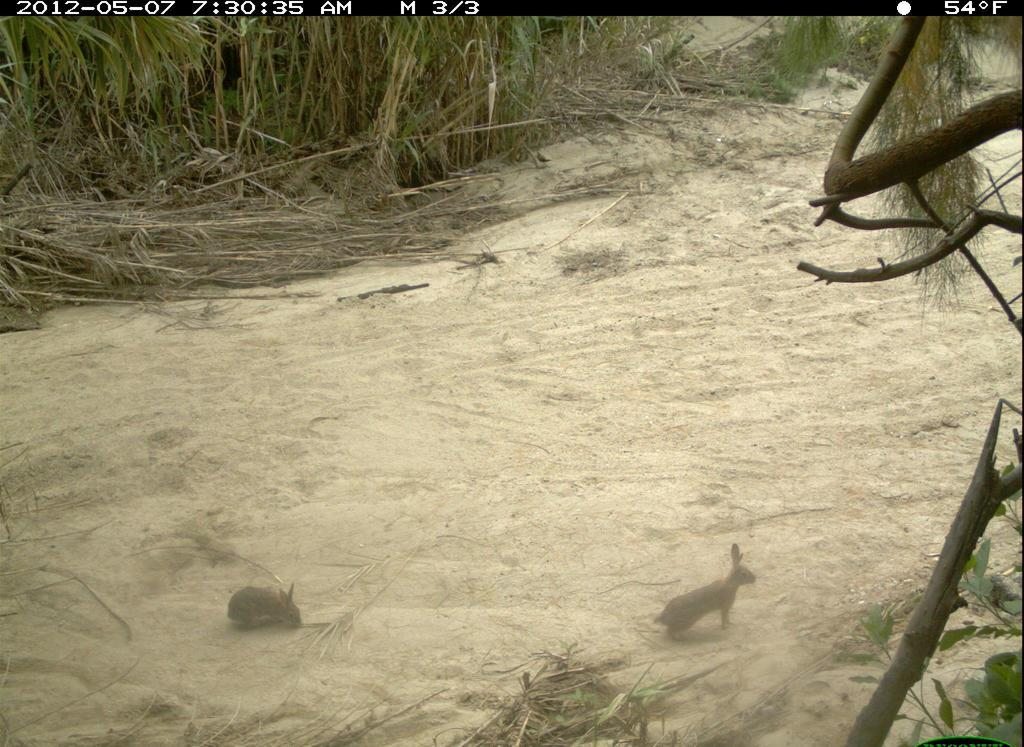rabbit: (648, 537, 765, 652), (214, 577, 321, 641)
